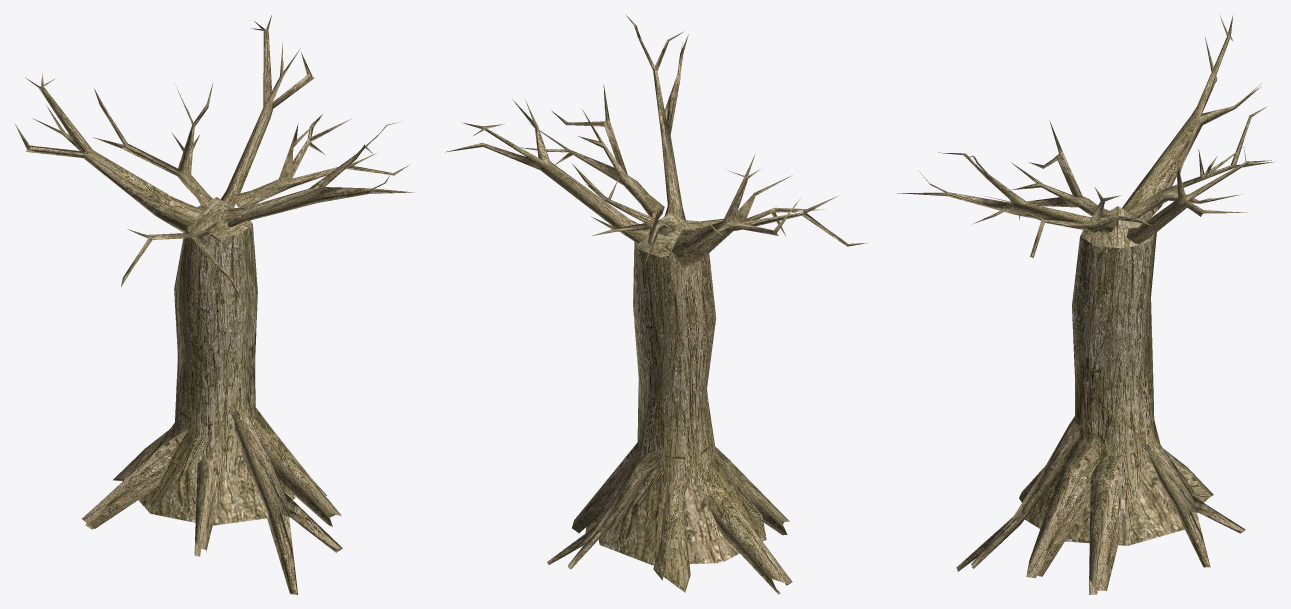
Rendered from tree_fig_trunk_a.dae.
3 renders of one model, left to right at view 1: azimuth 30°, elevation 25°; view 2: azimuth 150°, elevation 25°; view 3: azimuth 270°, elevation 25°, orthographic. The views are drawn at different scales.
Parts seen in each view (by area): view 1: Cylinder43; view 2: Cylinder43; view 3: Cylinder43.
Boxes of the visible parts, <box> form: Cylinder43: <box>15,15,414,594</box>; Cylinder43: <box>445,14,866,594</box>; Cylinder43: <box>897,15,1275,594</box>.
Size of the model in its own units: 13.21 by 13.15 by 18.7.
